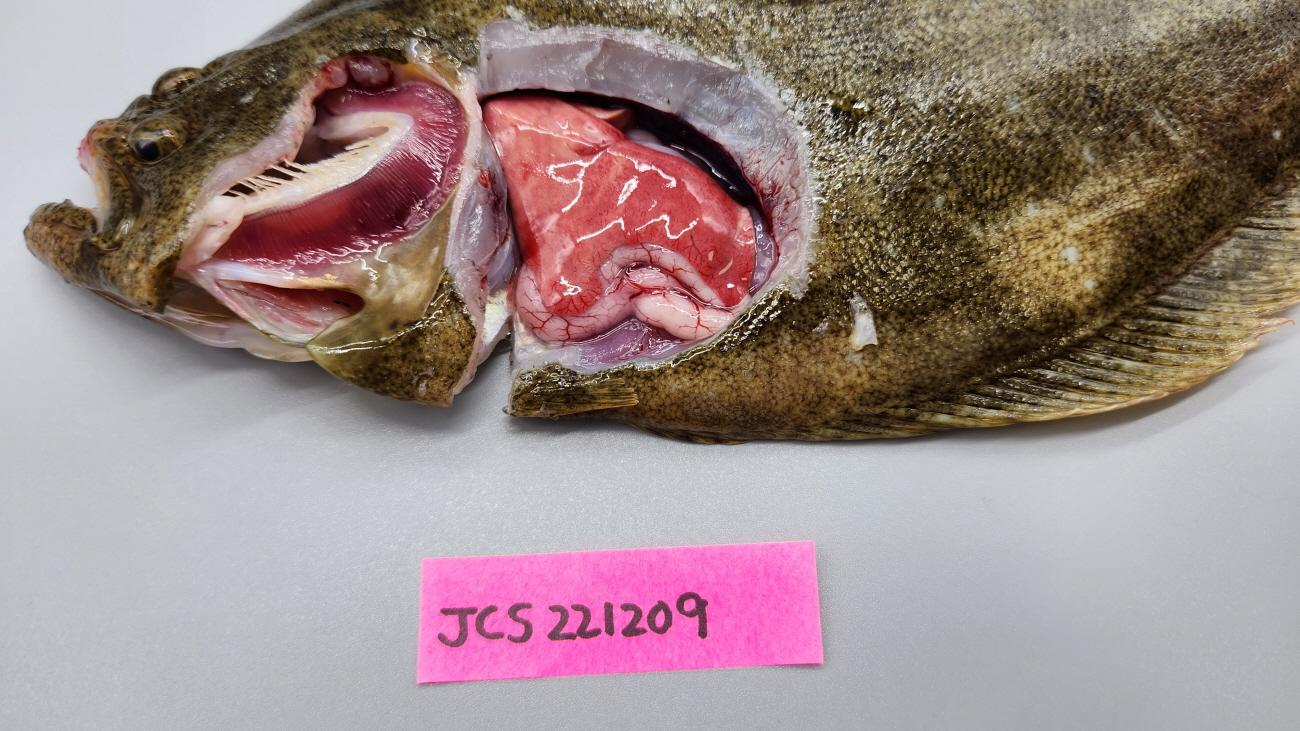VILIC: (544, 273, 602, 314)
